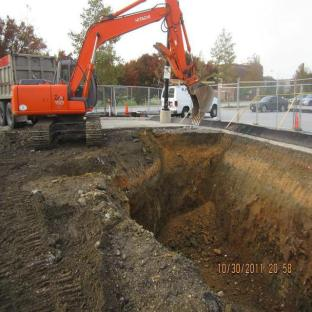ExcavationMachinery: (17, 33, 217, 158)
